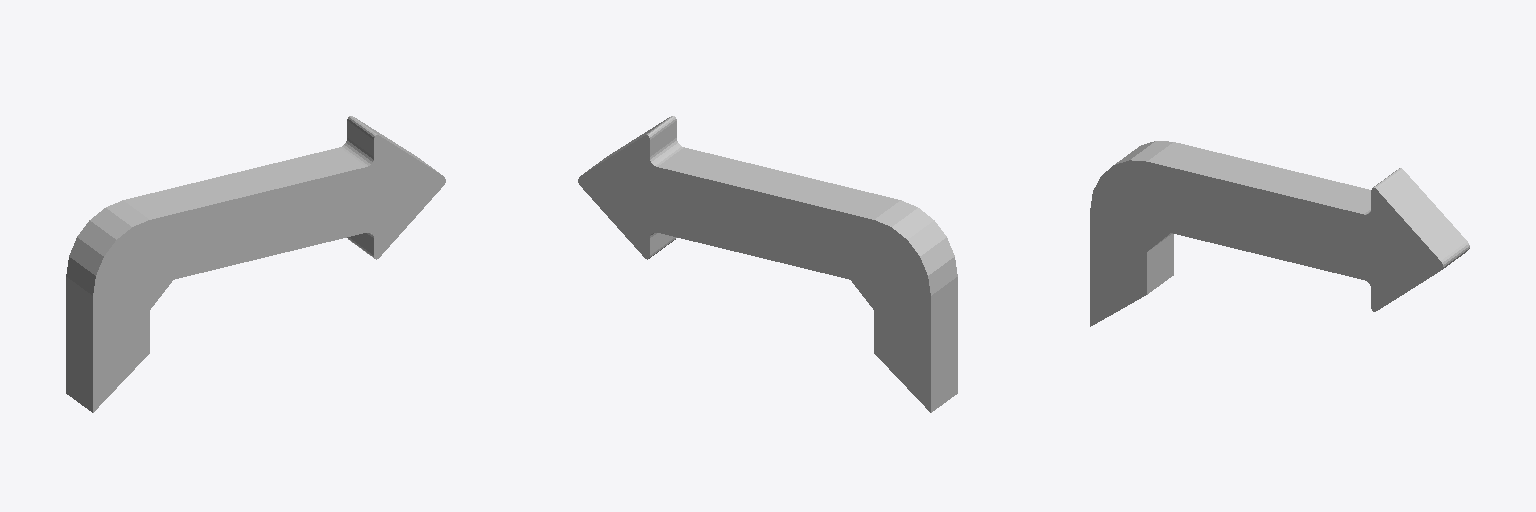
Rendered from Arrow_49.obj.
3 views of the same model, side by side, from view 1: azimuth 30°, elevation 25°; view 2: azimuth 150°, elevation 25°; view 3: azimuth 330°, elevation 25° (orthographic).
Parts seen in each view (by area): view 1: Arrow_49; view 2: Arrow_49; view 3: Arrow_49.
Boxes of the visible parts, <box> form: Arrow_49: <box>66,116,445,412</box>; Arrow_49: <box>578,116,957,412</box>; Arrow_49: <box>1090,141,1469,326</box>.
Bounding box in the file's own units: 5.62 × 3.18 × 0.7423.